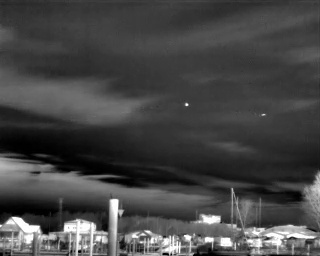BIRD: (259, 111, 268, 119)
